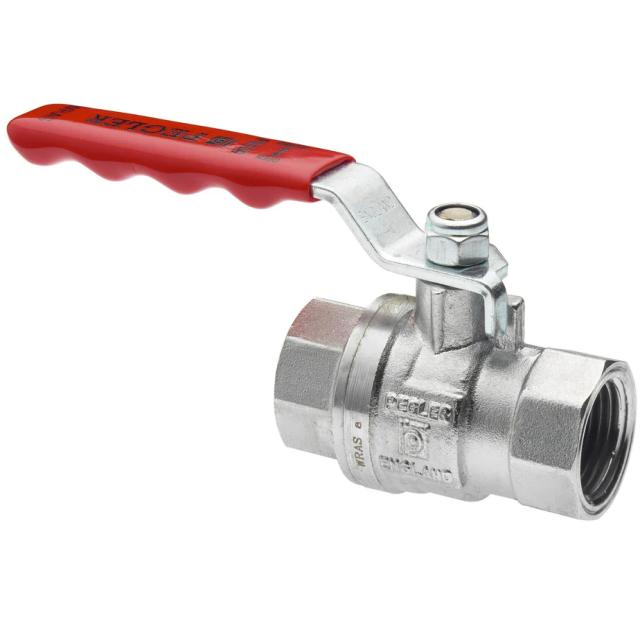Lever Handle Valve Threaded: (1, 82, 640, 533)
